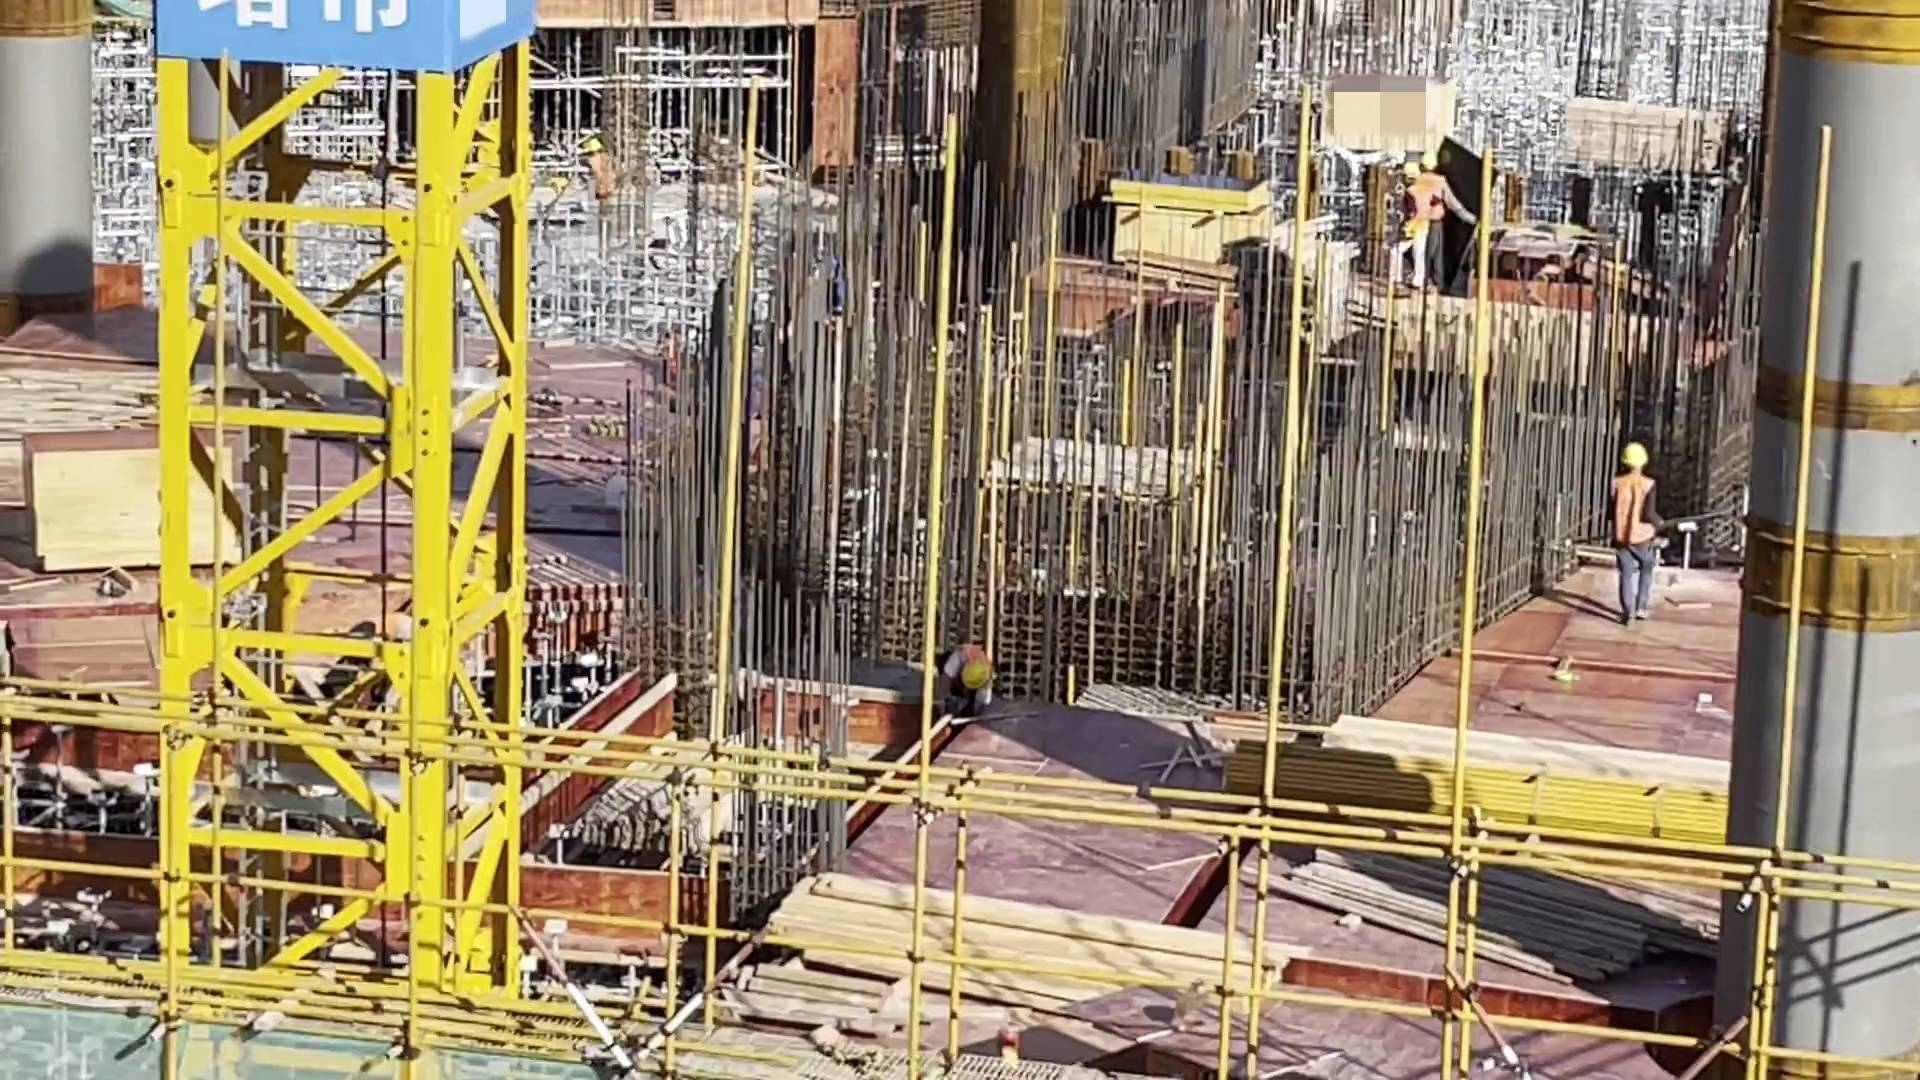board: (23, 429, 230, 597), (1105, 171, 1262, 216)
helmet: (961, 647, 993, 704), (1616, 438, 1650, 476), (1415, 149, 1444, 183), (583, 131, 606, 152)
person: (1604, 436, 1665, 630), (1413, 141, 1448, 298), (945, 633, 1006, 720), (581, 129, 623, 209)
vest: (1611, 473, 1657, 556), (1411, 172, 1450, 225)
wood: (763, 862, 1281, 1041), (1558, 102, 1719, 167)
